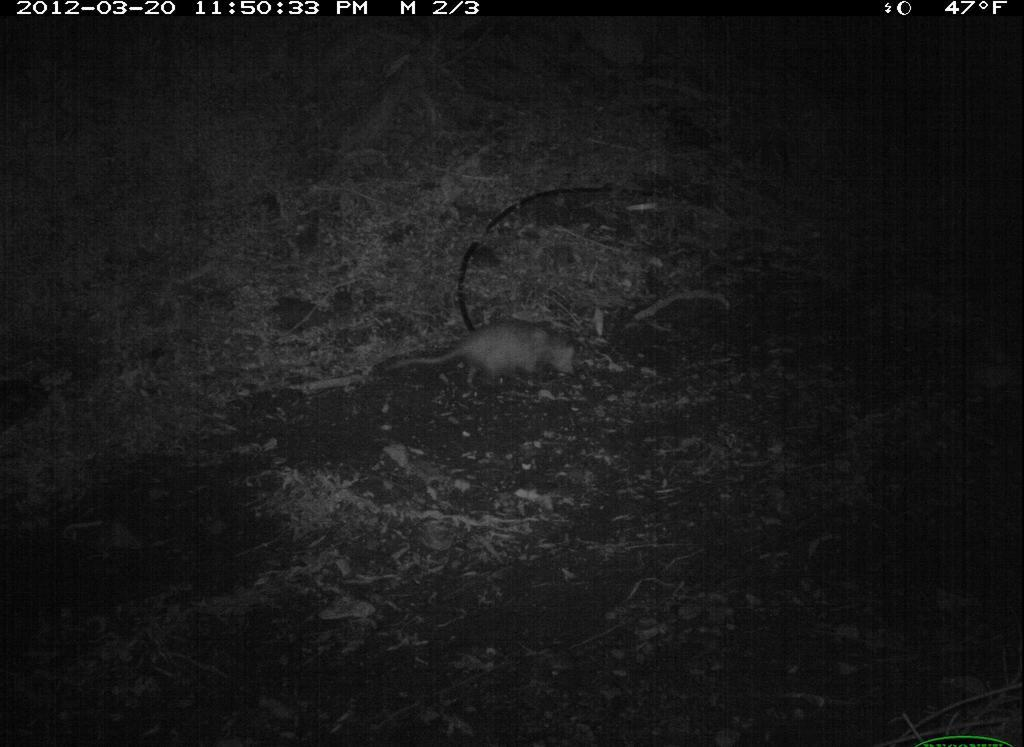opossum: (385, 319, 582, 392)
